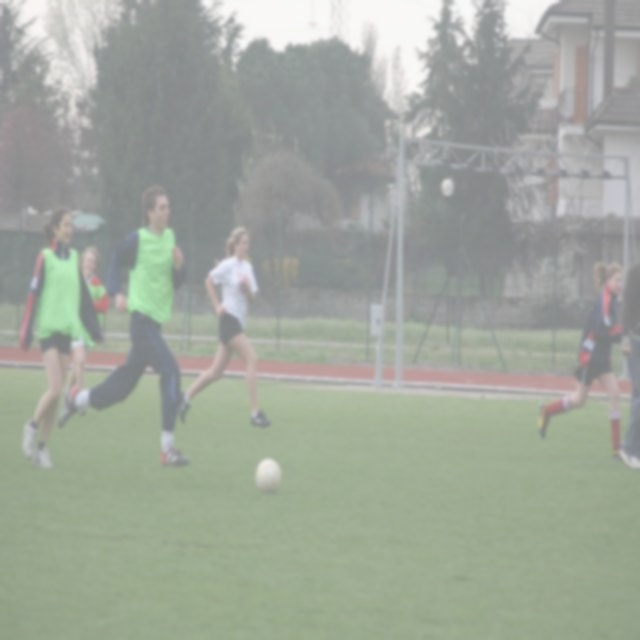pessoa: (55, 181, 193, 467), (14, 204, 107, 472), (534, 258, 634, 464), (178, 226, 274, 428), (61, 244, 110, 418), (618, 257, 640, 472)
